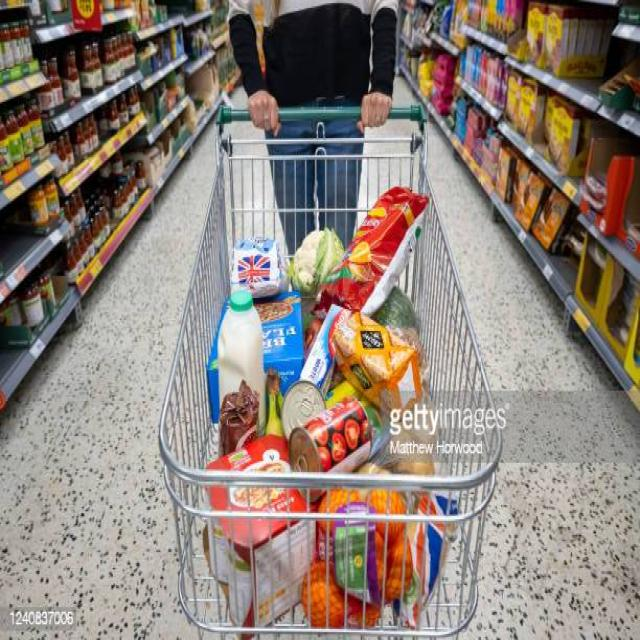Person: (228, 0, 399, 249)
